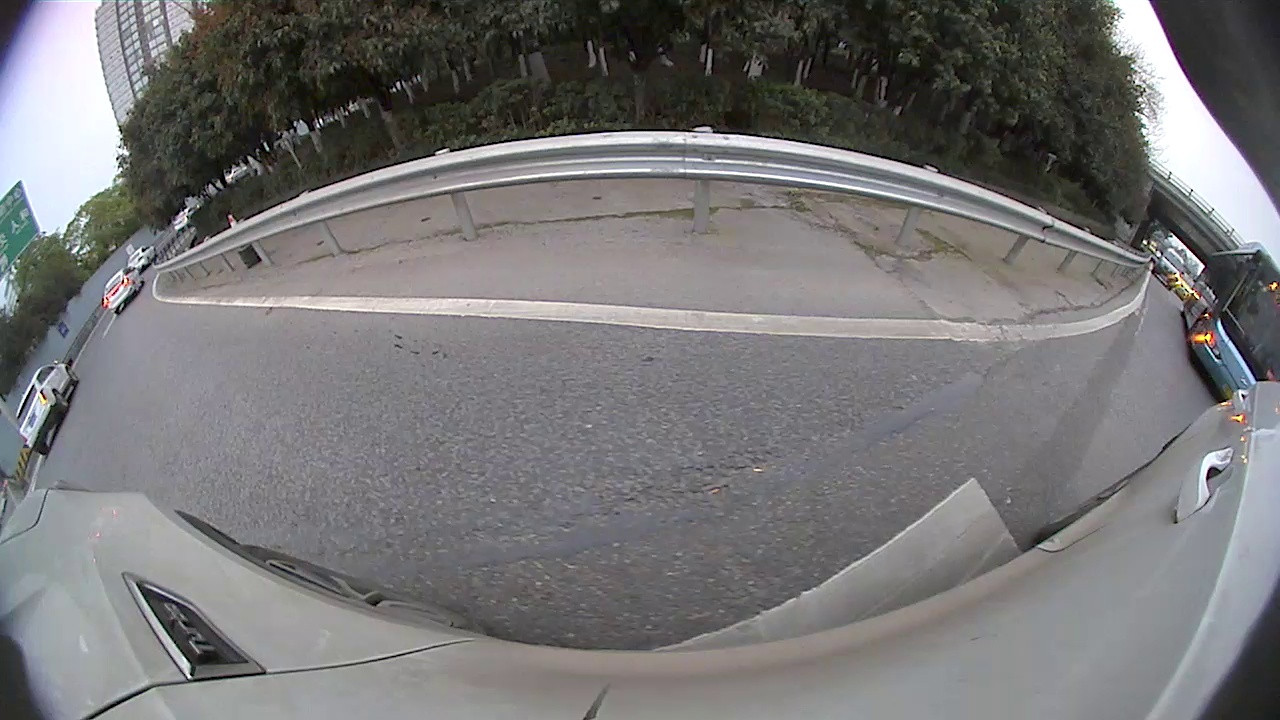bus: (1179, 239, 1279, 408)
car: (12, 362, 81, 460), (100, 262, 148, 317), (1152, 243, 1189, 293)
rear: (53, 390, 70, 410)
